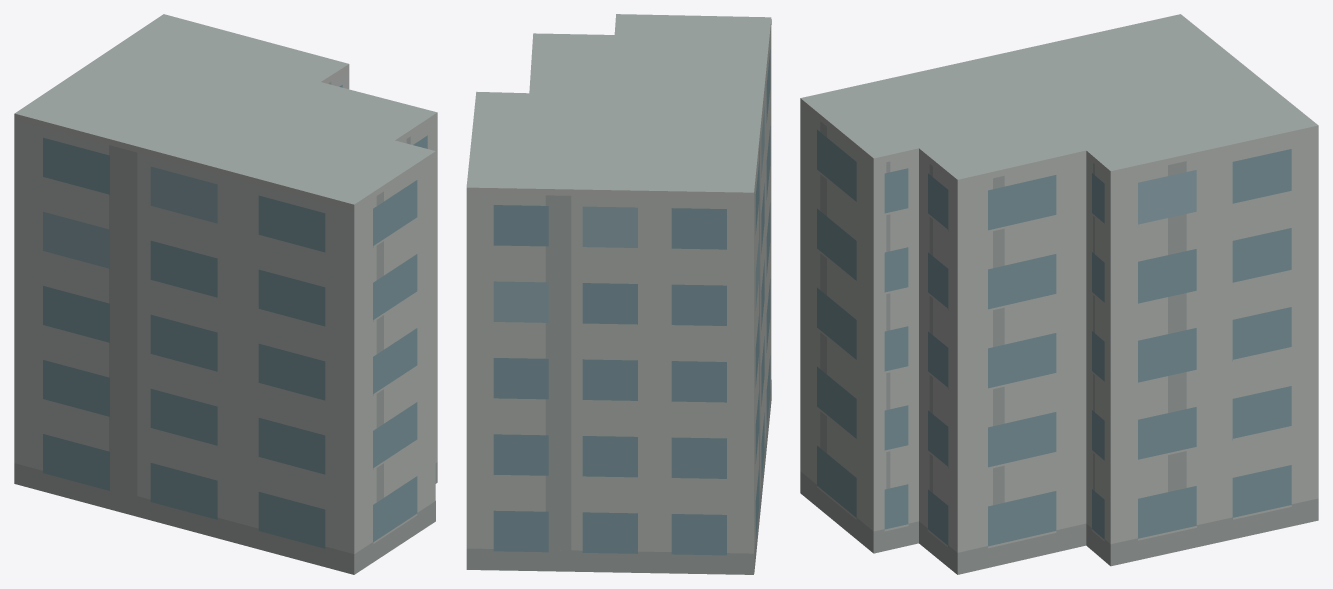
The model's file is survey-upis-32880451.glb.
3 views of the same model, side by side, from view 1: azimuth 30°, elevation 25°; view 2: azimuth 150°, elevation 25°; view 3: azimuth 270°, elevation 25° (orthographic). The views are drawn at different scales.
Visible parts, largest first — view 1: survey-upis-32880451.tmp; view 2: survey-upis-32880451.tmp; view 3: survey-upis-32880451.tmp.
Part boxes in pixels (box(x1,y1,x2,y2)): survey-upis-32880451.tmp: box(14, 14, 437, 574); survey-upis-32880451.tmp: box(466, 14, 771, 574); survey-upis-32880451.tmp: box(800, 14, 1318, 574).
Size of the model in its own units: 13.2 by 14.65 by 17.43.
